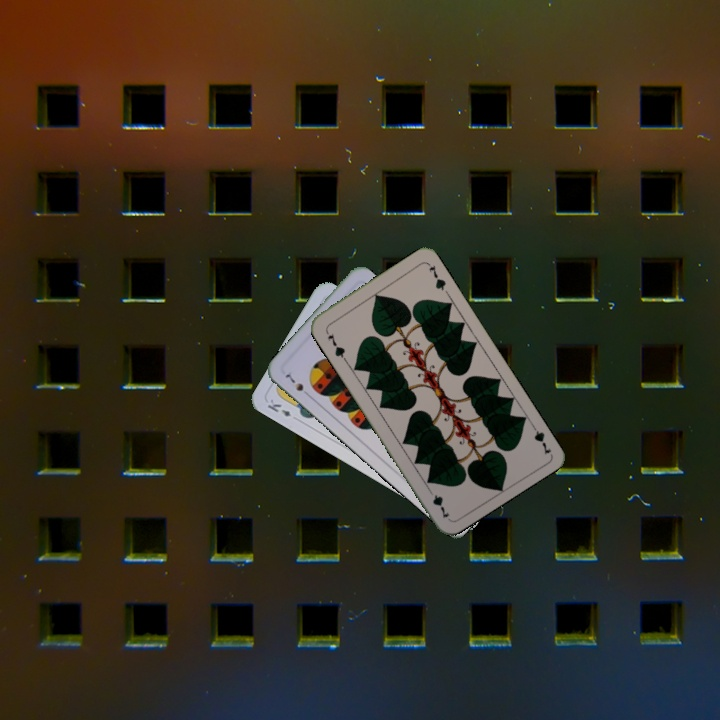EK: (263, 395, 294, 419)
G7: (527, 418, 554, 457), (324, 329, 348, 362)
S7: (281, 369, 313, 400)
